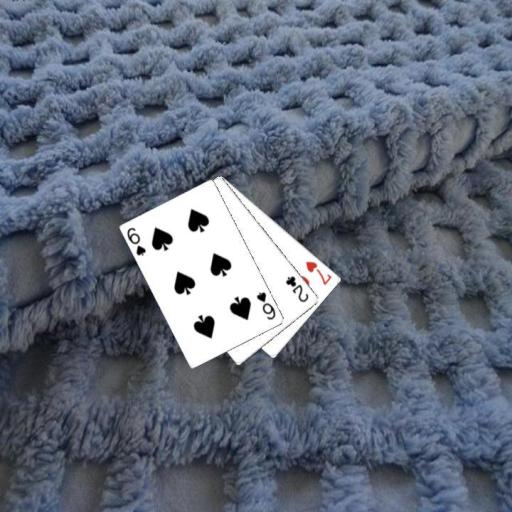2C: (282, 273, 310, 304)
6S: (124, 224, 148, 257), (254, 289, 277, 321)
7H: (303, 258, 333, 287)
